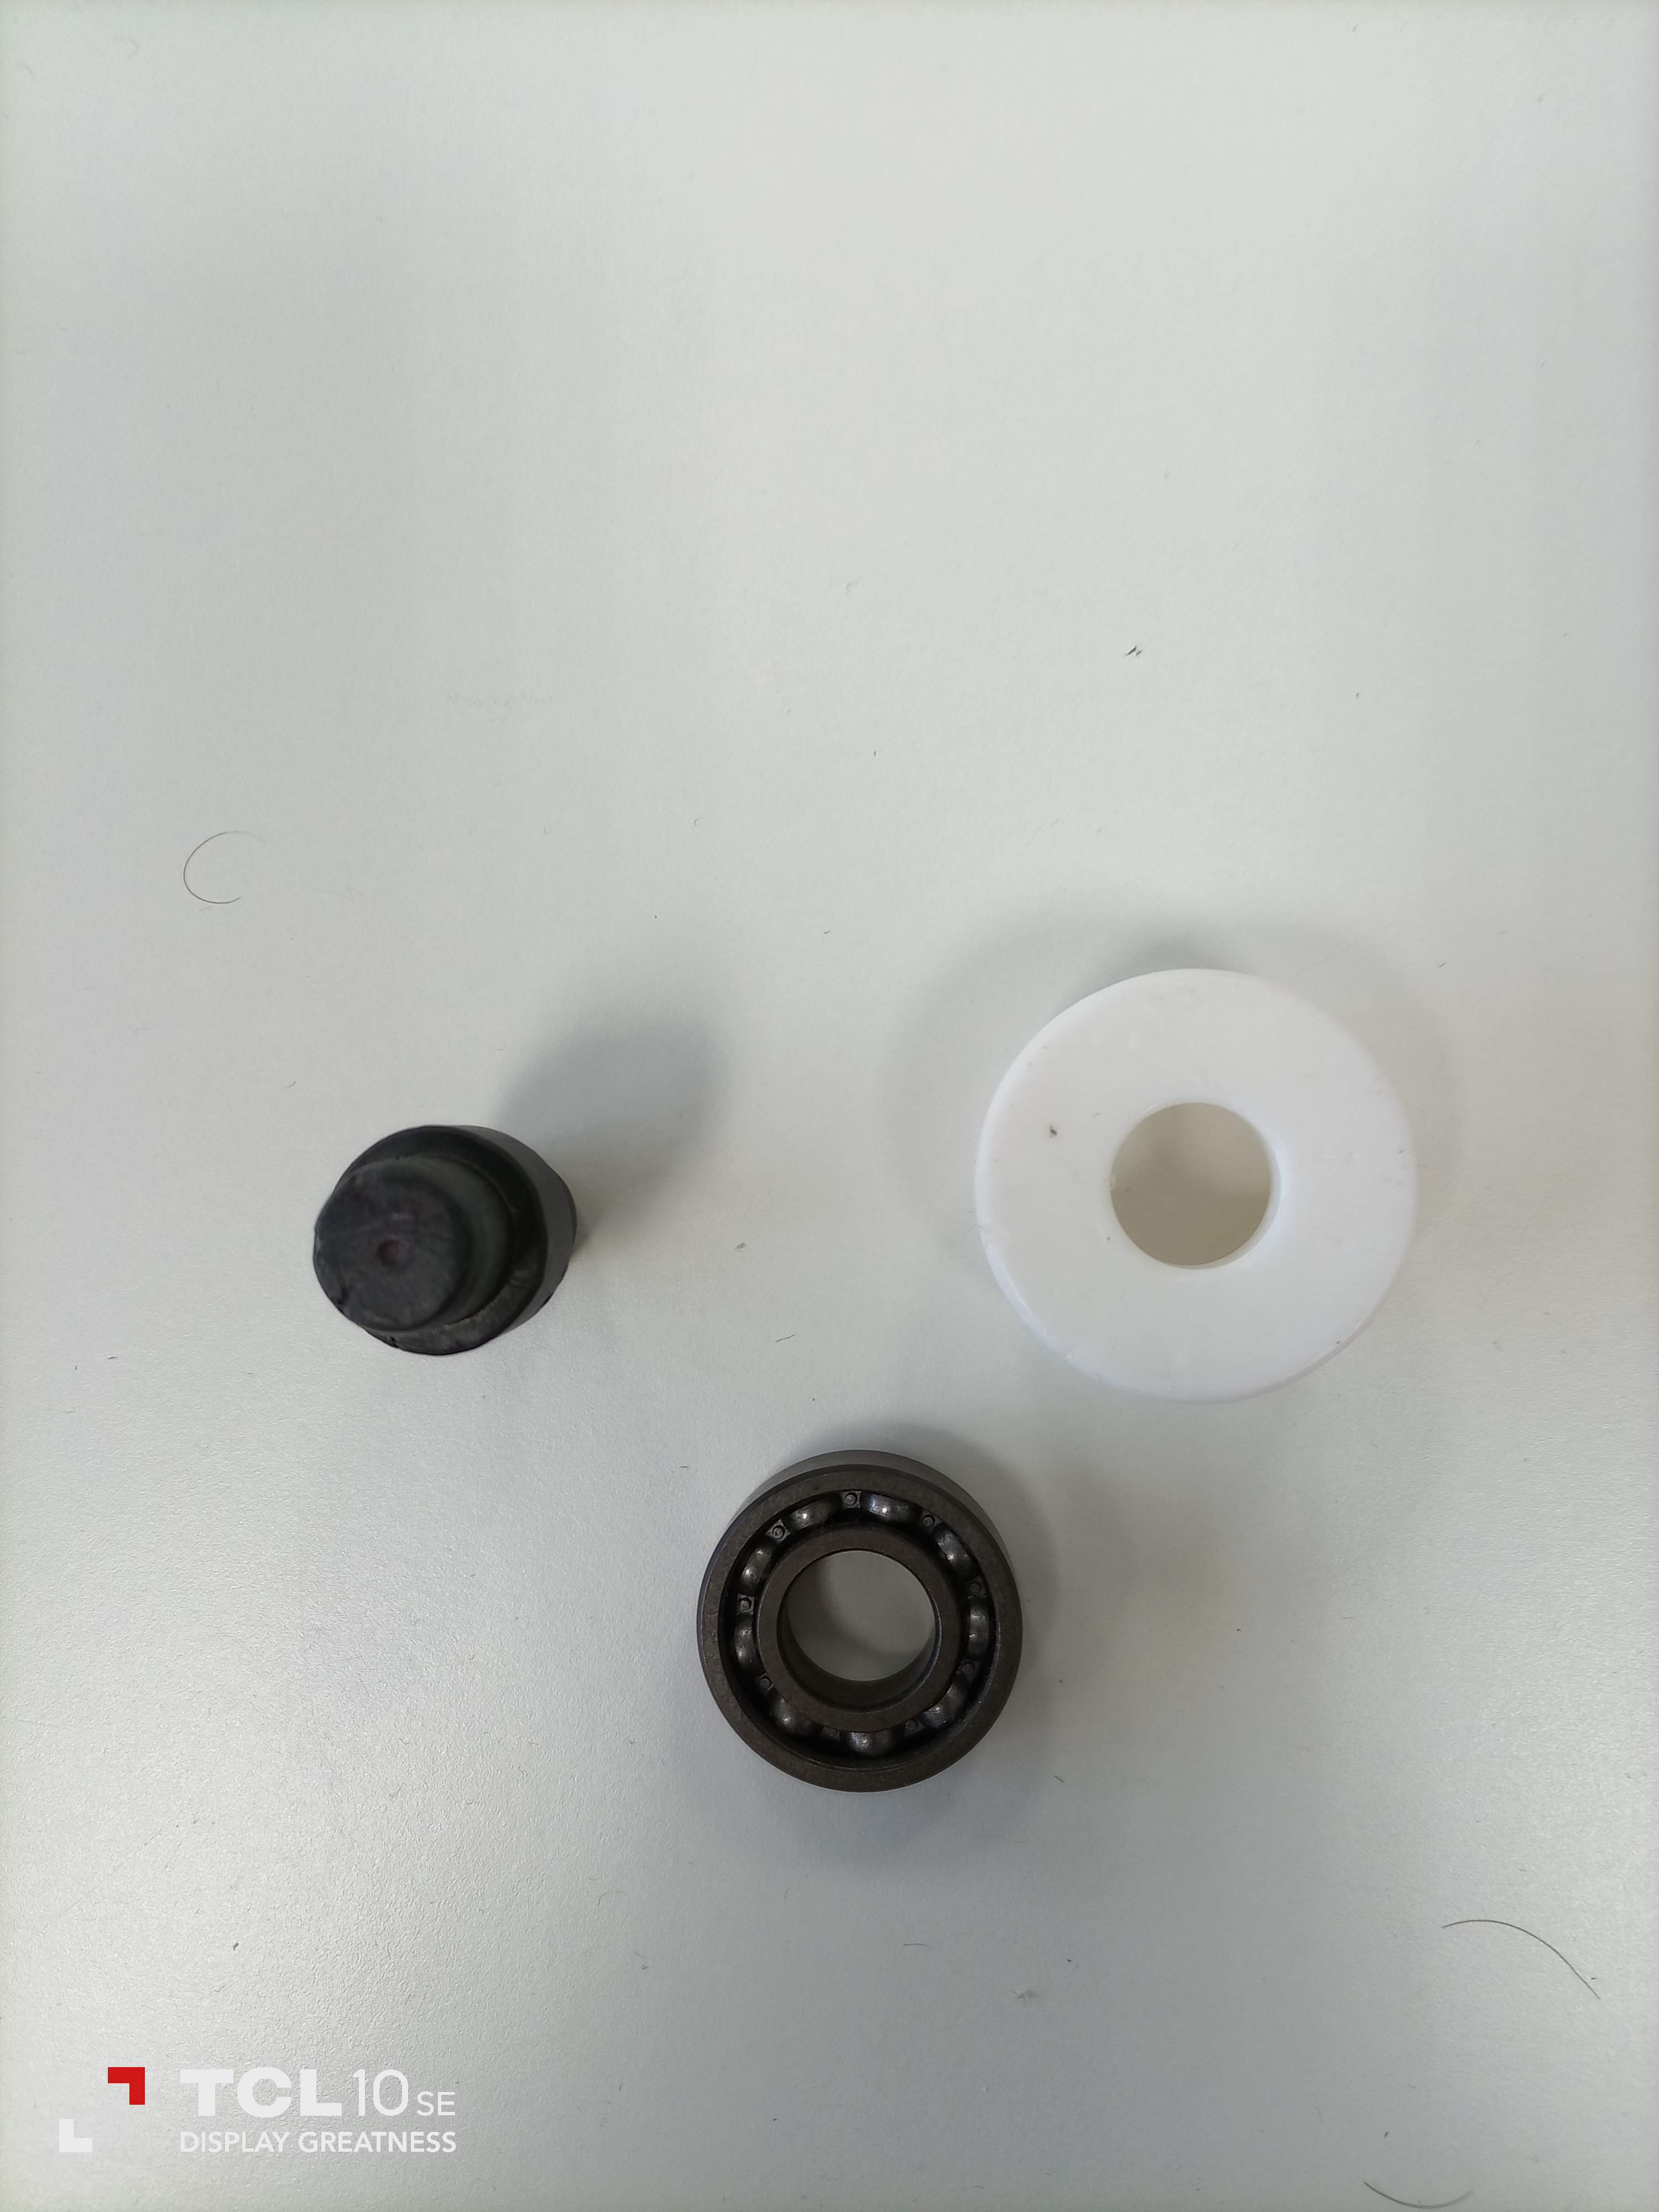Ardatza: (314, 1129, 582, 1367)
Roda: (685, 1453, 1014, 1787)
Tapa: (969, 988, 1448, 1400)
